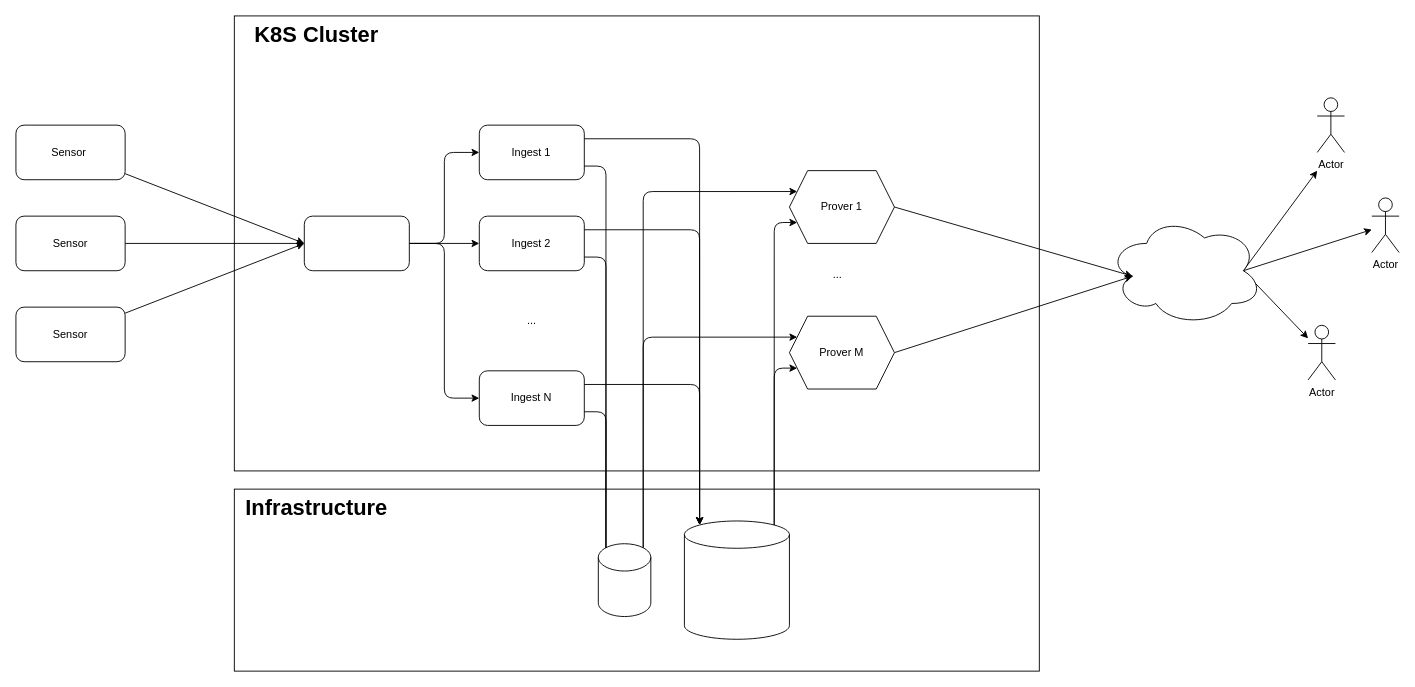
This 1415x687 diagram has some shape labels left out. Each missing label, with the centre of its shape:
Data Lake: point (736, 579)
k8s Load Balancer: point (356, 243)
Meta DB: point (624, 580)
Smart Contract: point (1185, 270)
